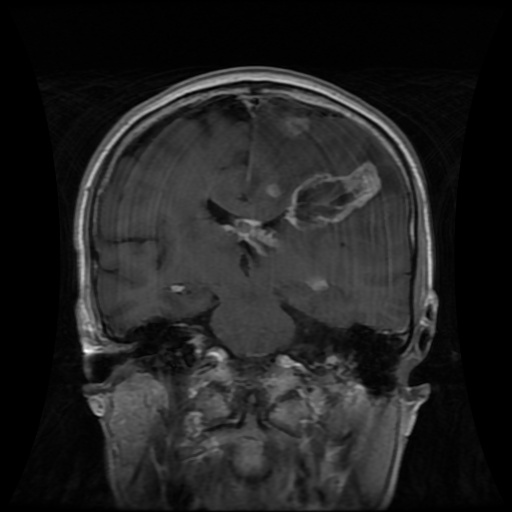glioma: (285, 161, 383, 231)
